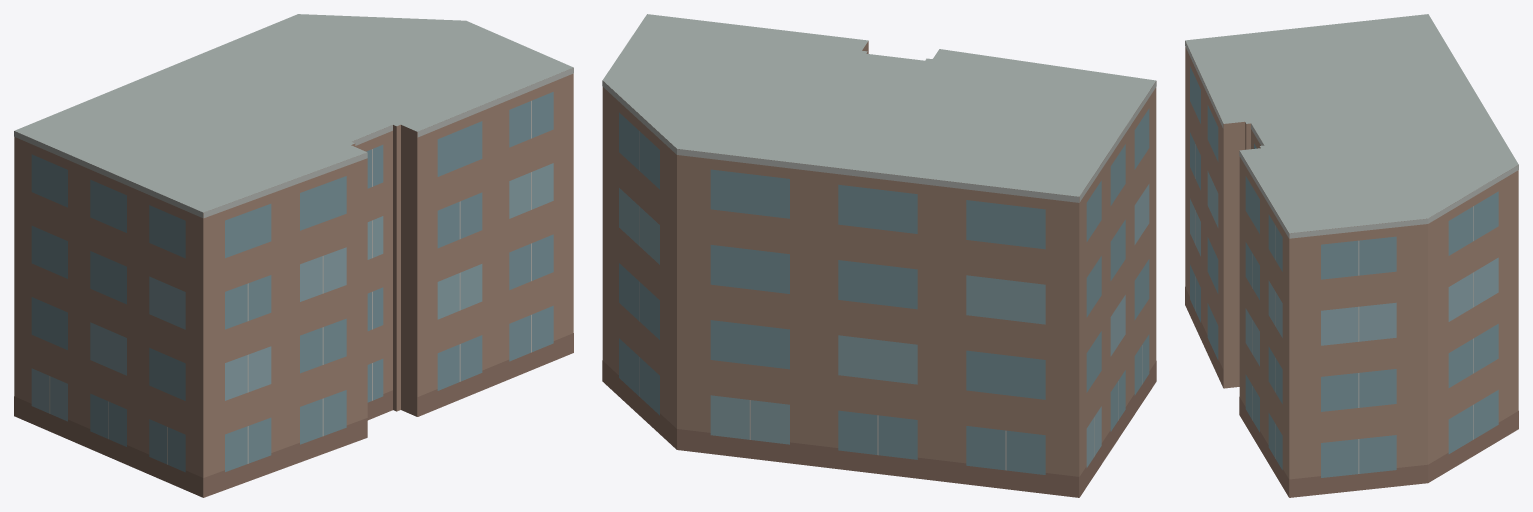
Rendered from survey-upis-32740414.glb.
3 views of the same model, side by side, from view 1: azimuth 30°, elevation 25°; view 2: azimuth 150°, elevation 25°; view 3: azimuth 270°, elevation 25° (orthographic). The views are drawn at different scales.
Parts seen in each view (by area): view 1: survey-upis-32740414.tmp; view 2: survey-upis-32740414.tmp; view 3: survey-upis-32740414.tmp.
Boxes of the visible parts, left/top/right/bottom form: survey-upis-32740414.tmp: left=14, top=14, right=573, bottom=497; survey-upis-32740414.tmp: left=602, top=14, right=1156, bottom=497; survey-upis-32740414.tmp: left=1185, top=14, right=1518, bottom=497.
Bounding box in the file's own units: 21.26 × 11.95 × 13.67.
